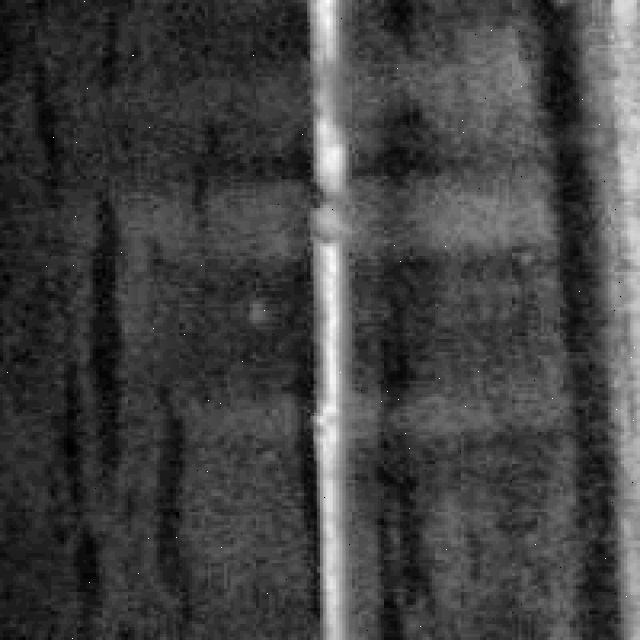Inclusion: (304, 0, 362, 637)
